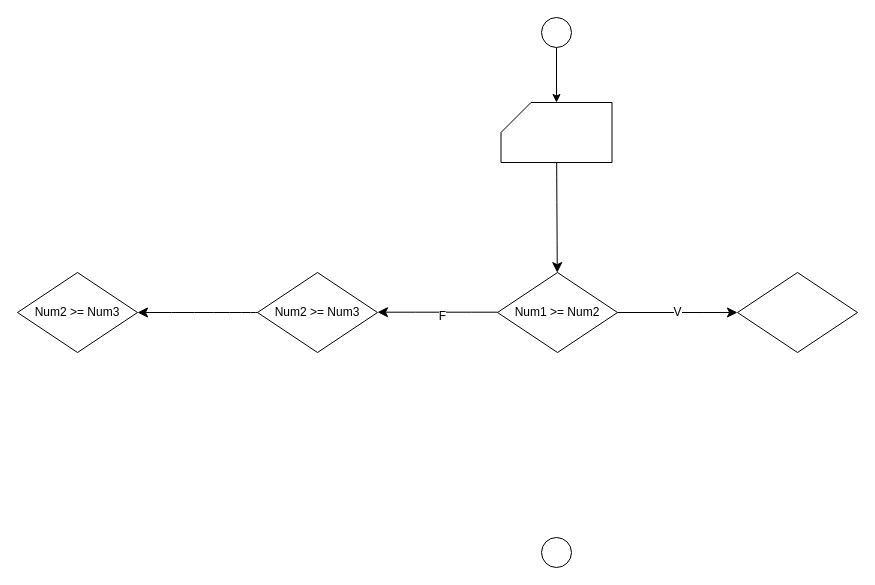
Some shapes in this 875 by 585 pixel diagram are drawn without their labels. Here are the shapes that lost their labels. From the top down, the centre of each, then its label:
At (x=556, y=132): "Num1, Num2, Num3".
At (x=797, y=312): "Num1 >= Num3".
